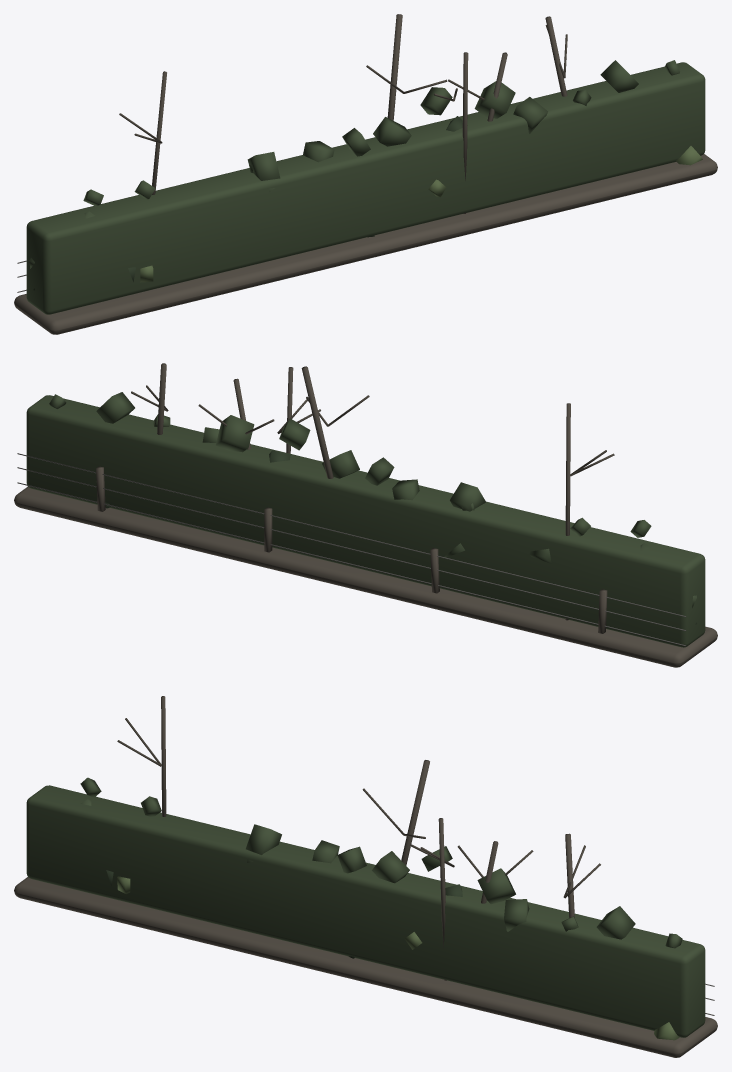
File: hedgerow_far_v1.glb
3 renders of one model, top to bottom at view 1: azimuth 30°, elevation 25°; view 2: azimuth 150°, elevation 25°; view 3: azimuth 330°, elevation 25°, orthographic.
Parts seen in each view (by area): view 1: Hedgerow; view 2: Hedgerow; view 3: Hedgerow.
Boxes of the visible parts, x1=… form: Hedgerow: x1=14, y1=14, x2=717, y2=334; Hedgerow: x1=14, y1=363, x2=717, y2=667; Hedgerow: x1=14, y1=696, x2=717, y2=1057.
Bounding box in the file's own units: 12 × 3.8 × 1.28.
